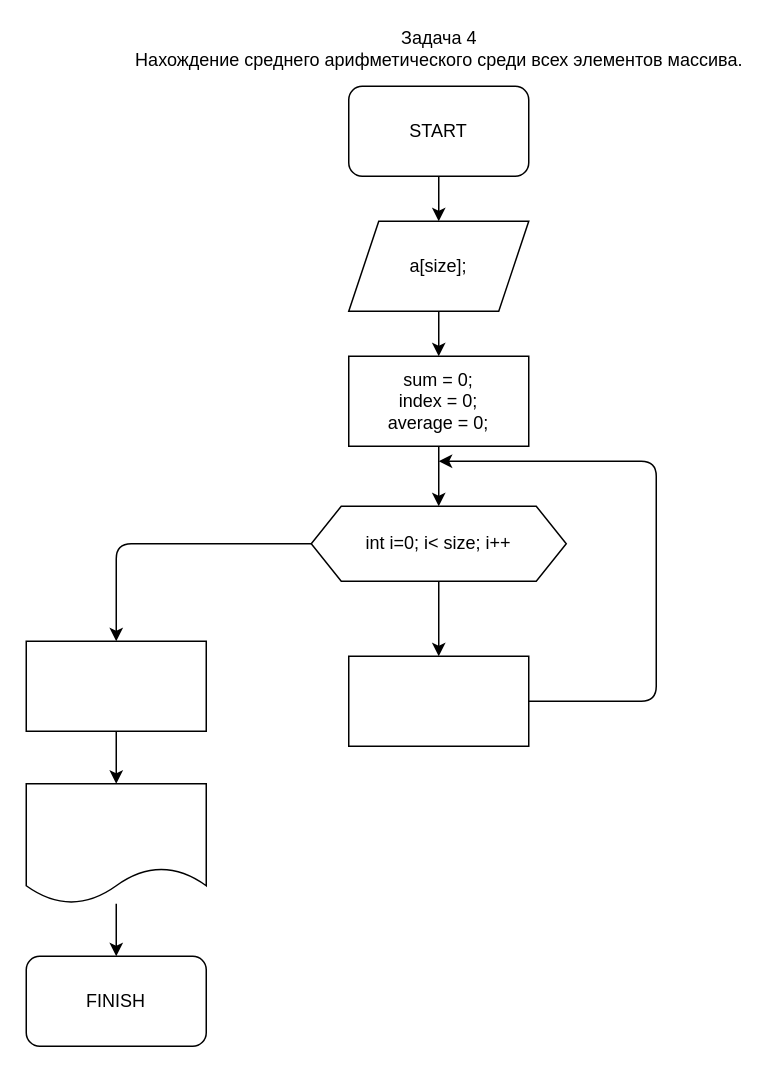
This 780x1073 diagram has some shape labels left out. The centre of each missing label's shape, as x and y in pixels:
average: point (115, 843)
average=sum/size;: point (115, 685)
sum=sum+a[ i ]; index = i ;: point (438, 700)
